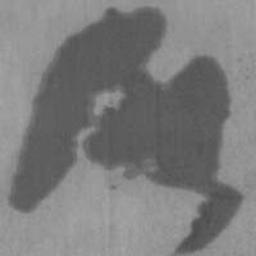Oil spot: (5, 4, 247, 256)
